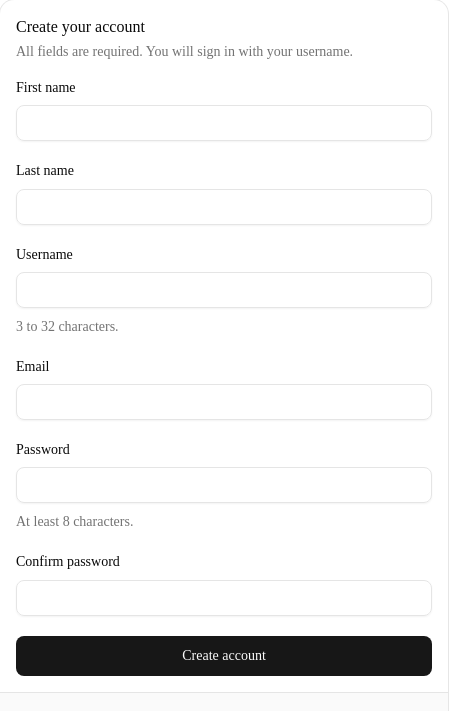
Test: RegisterForm › refuses to submit when the two passwords differ
In the field labelled "First name": coordinates (224, 123) [16,105,432,141], type "Ada"
In the field labelled "Last name": coordinates (224, 206) [16,188,432,224], type "Lovelace"
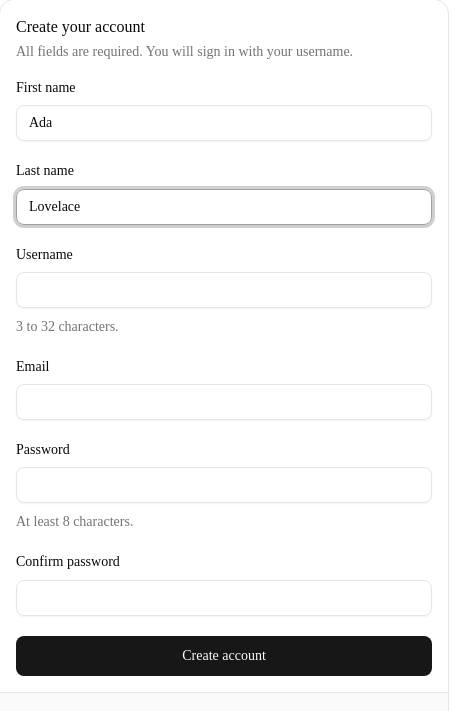
In the field labelled "Username": coordinates (224, 290) [16,272,432,308], type "ada"
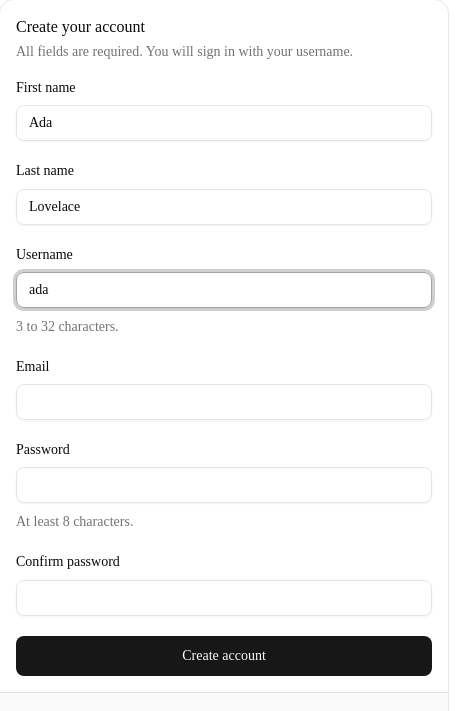
In the field labelled "Email": coordinates (224, 402) [16,384,432,420], type "ada@example.com"
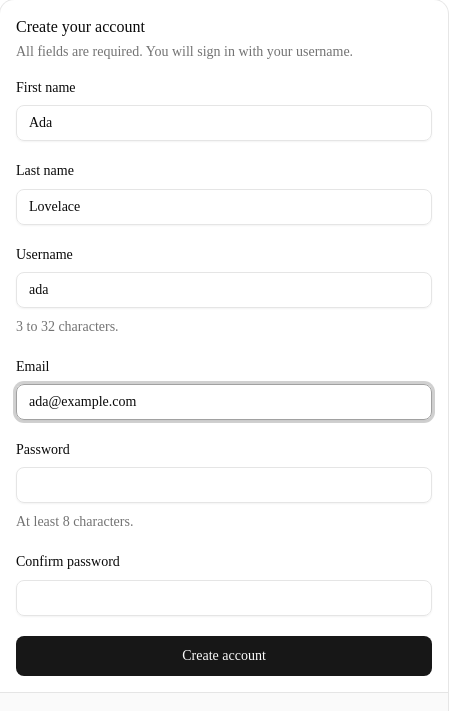
In the password field labelled "Password": coordinates (224, 485) [16,467,432,503], type "correct horse battery"
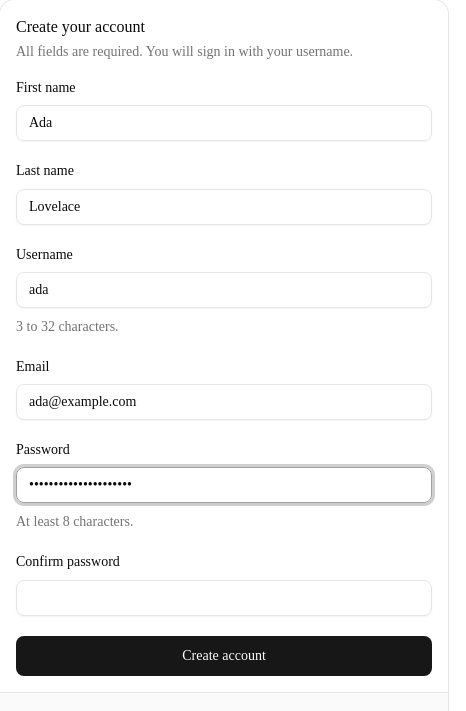
In the password field labelled "Confirm password": coordinates (224, 598) [16,580,432,616], type "correct horse batteryy"
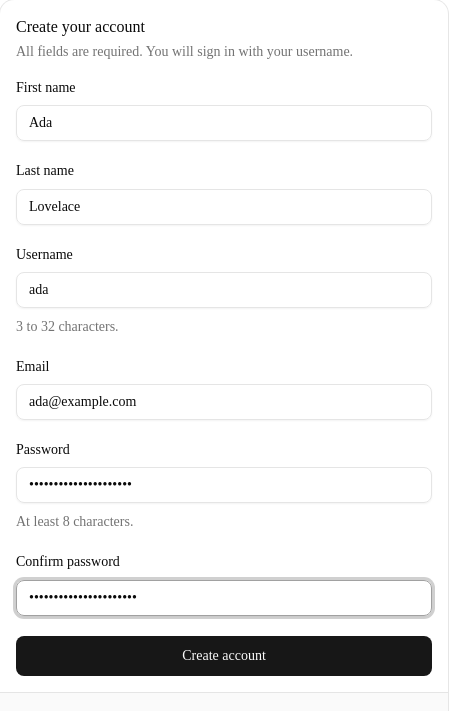
Click the button "Create account": coordinates (224, 656) [16,636,432,676]
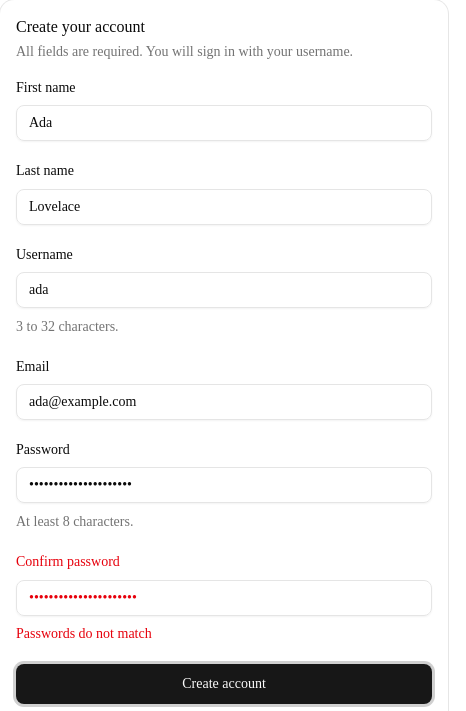
Expected: the text "Passwords do not match" is shown, [16,626,152,640]
